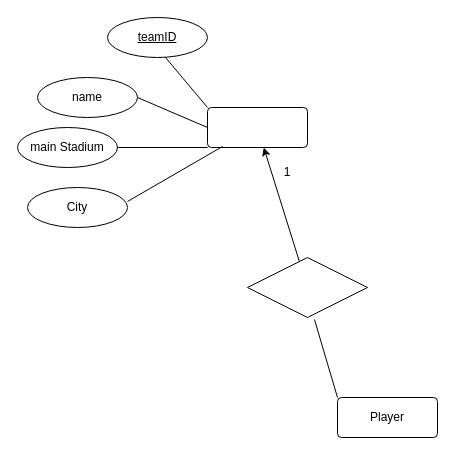
Image size: 455x455. Some labels were removed from this diagram. Here are the shapes that lost their labels. From the top down, the box of each, then its label:
(206, 106, 308, 148): team
(246, 256, 368, 318): Plays for
